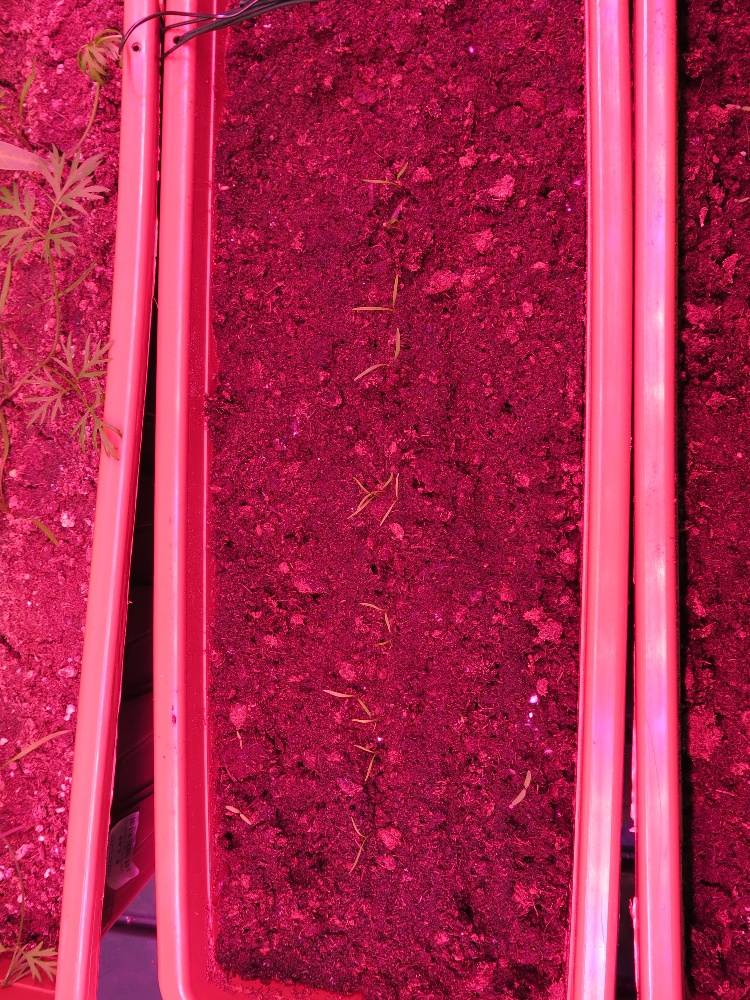crop: (352, 325, 401, 386), (351, 270, 398, 313), (376, 467, 404, 533), (321, 687, 372, 717), (360, 155, 409, 186), (346, 811, 367, 875), (348, 472, 381, 512), (358, 598, 392, 635), (352, 742, 378, 785)
weed: (508, 766, 532, 811), (224, 803, 253, 829), (235, 728, 243, 752)
